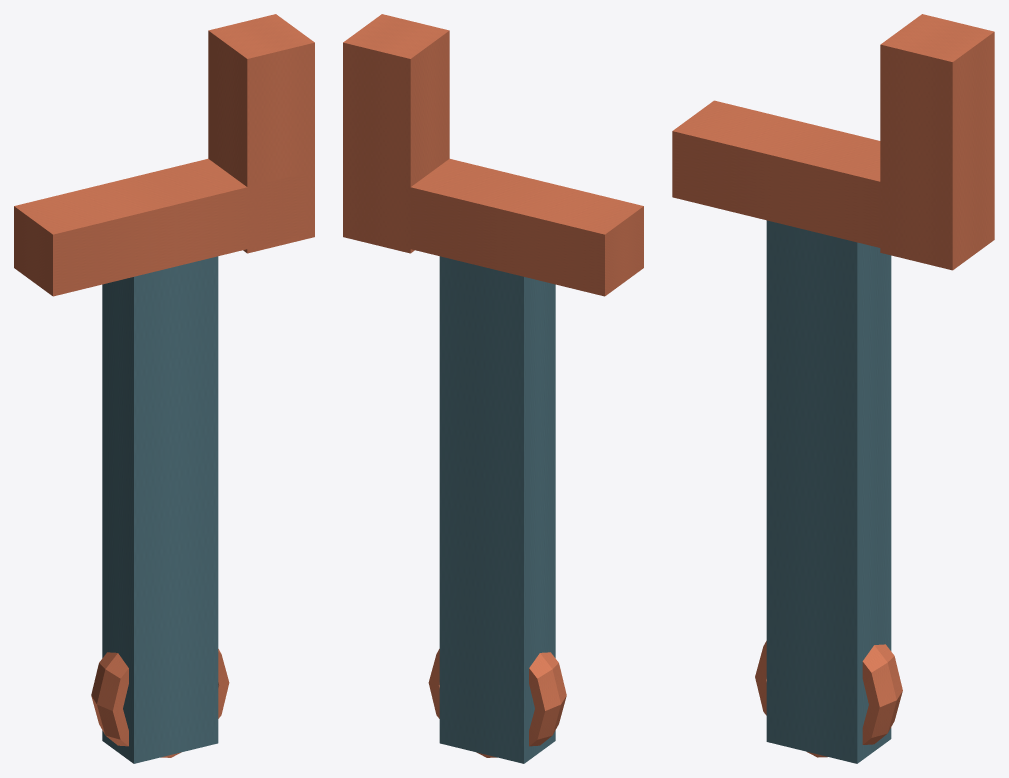
The model's file is atlas100-s044-a05.lod1.glb.
The picture shows the model from 3 angles, left to right: view 1: azimuth 30°, elevation 25°; view 2: azimuth 150°, elevation 25°; view 3: azimuth 330°, elevation 25°; orthographic projection. The views are drawn at different scales.
Parts seen in each view (by area): view 1: atlas100-s044-a05:part-000, atlas100-s044-a05:part-003, atlas100-s044-a05:part-002, atlas100-s044-a05:part-004; view 2: atlas100-s044-a05:part-000, atlas100-s044-a05:part-003, atlas100-s044-a05:part-002, atlas100-s044-a05:part-004; view 3: atlas100-s044-a05:part-000, atlas100-s044-a05:part-002, atlas100-s044-a05:part-003, atlas100-s044-a05:part-004.
Part boxes in pixels (x1=…): atlas100-s044-a05:part-000: x1=102, y1=256, x2=218, y2=763; atlas100-s044-a05:part-003: x1=14, y1=158, x2=306, y2=296; atlas100-s044-a05:part-002: x1=208, y1=14, x2=314, y2=253; atlas100-s044-a05:part-004: x1=91, y1=649, x2=229, y2=757; atlas100-s044-a05:part-000: x1=439, y1=256, x2=555, y2=763; atlas100-s044-a05:part-003: x1=351, y1=158, x2=643, y2=296; atlas100-s044-a05:part-002: x1=343, y1=14, x2=449, y2=253; atlas100-s044-a05:part-004: x1=428, y1=649, x2=566, y2=757; atlas100-s044-a05:part-000: x1=766, y1=220, x2=891, y2=763; atlas100-s044-a05:part-002: x1=880, y1=14, x2=994, y2=270; atlas100-s044-a05:part-003: x1=672, y1=100, x2=943, y2=260; atlas100-s044-a05:part-004: x1=755, y1=641, x2=902, y2=757.
Bounding box in the file's own units: 0.3385 × 0.8572 × 0.0874.
2 materials, 2 textured.
